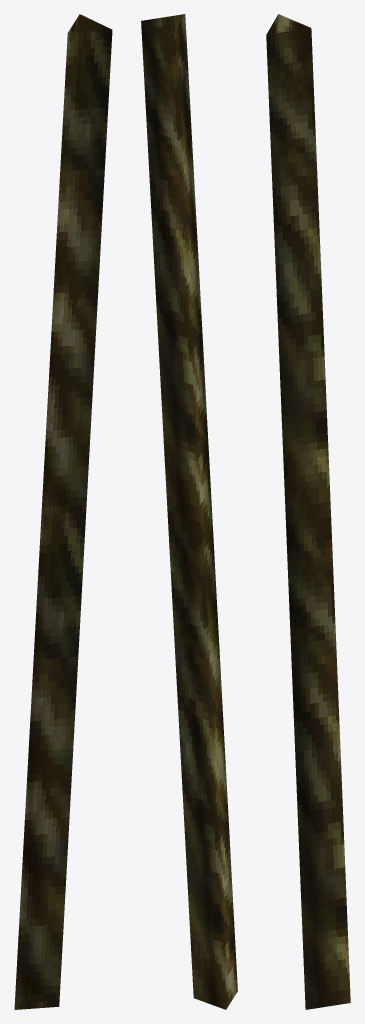
The model's file is OVERHILL_A_01_ROPE_LINE_02.fbx.
3 renders of one model, left to right at view 1: azimuth 30°, elevation 25°; view 2: azimuth 210°, elevation 25°; view 3: azimuth 270°, elevation 25°, orthographic. The views are drawn at different scales.
Parts seen in each view (by area): view 1: OVERHILL_A_01_ROPE_LINE_02; view 2: OVERHILL_A_01_ROPE_LINE_02; view 3: OVERHILL_A_01_ROPE_LINE_02.
Part boxes in pixels (x1,y1,x2,y2): OVERHILL_A_01_ROPE_LINE_02: (14,14,112,1009); OVERHILL_A_01_ROPE_LINE_02: (141,14,237,1009); OVERHILL_A_01_ROPE_LINE_02: (266,14,350,1009).
Bounding box in the file's own units: 854 × 11075 × 854.
Materials: 1 (1 with a texture image).
